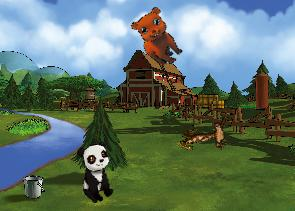bear: (124, 2, 194, 71)
eagle: (182, 106, 240, 165)
panda: (75, 140, 117, 205)
